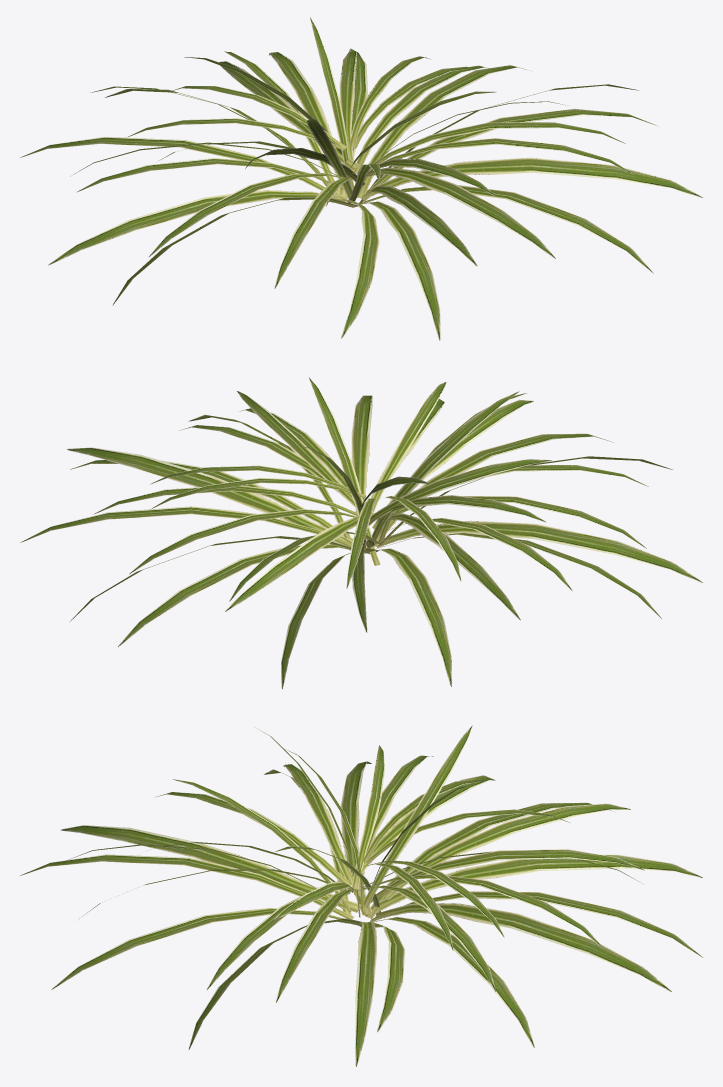
3 views of the same model, one above another, from view 1: azimuth 30°, elevation 25°; view 2: azimuth 150°, elevation 25°; view 3: azimuth 270°, elevation 25° (orthographic). The views are drawn at different scales.
Parts seen in each view (by area): view 1: spiderLeaf (×33); view 2: spiderLeaf (×34); view 3: spiderLeaf (×31).
Boxes of the visible parts, x1,y1,x2,y2 form: spiderLeaf (×33): [20, 17, 702, 340]; spiderLeaf (×34): [20, 377, 702, 689]; spiderLeaf (×31): [20, 725, 703, 1066].
Bounding box in the file's own units: 16.84 × 16.19 × 3.94.
Materials: 1 (1 with a texture image).
